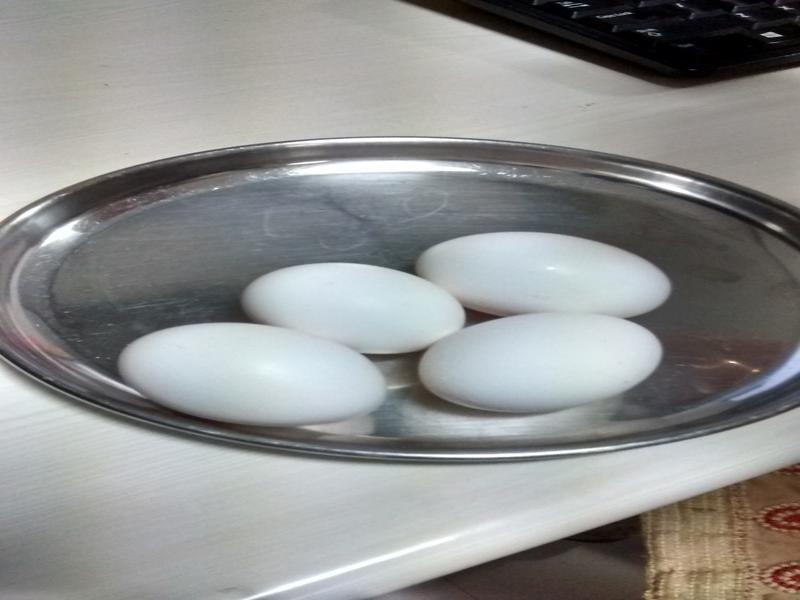egg: (122, 318, 383, 424)
